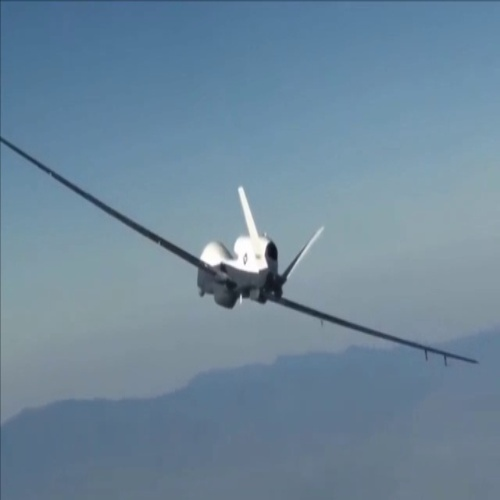uav: (1, 131, 484, 369)
